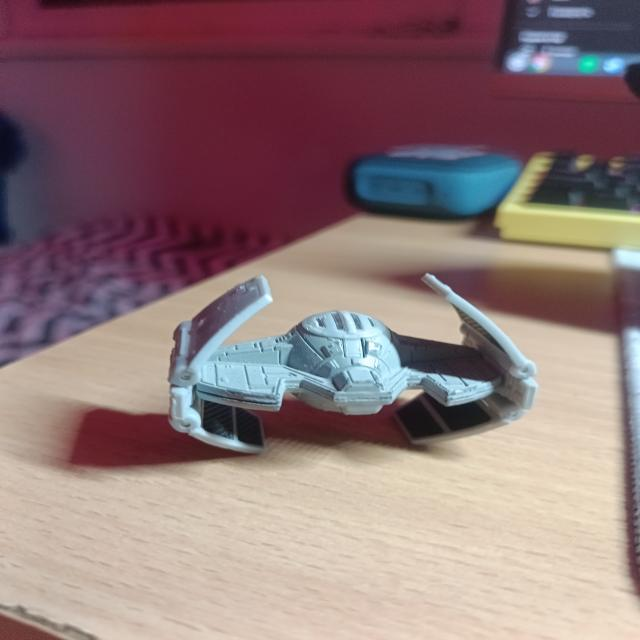tie fighter: (169, 275, 537, 453)
